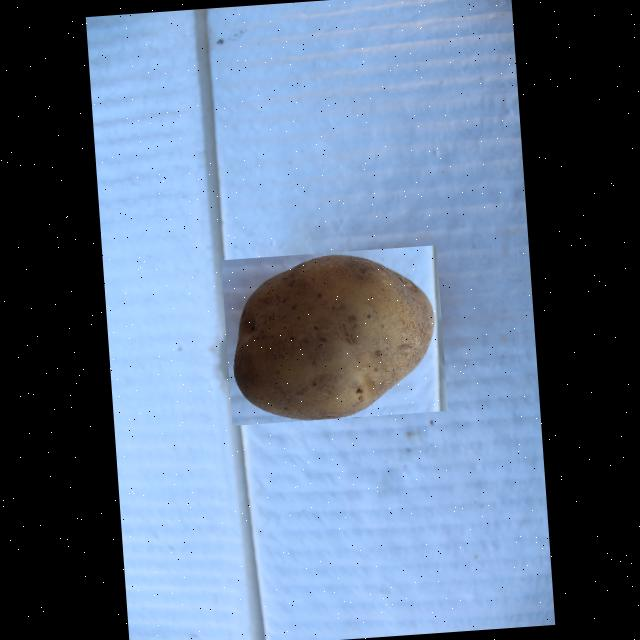Diseased-fungal potato: (220, 243, 448, 424)
